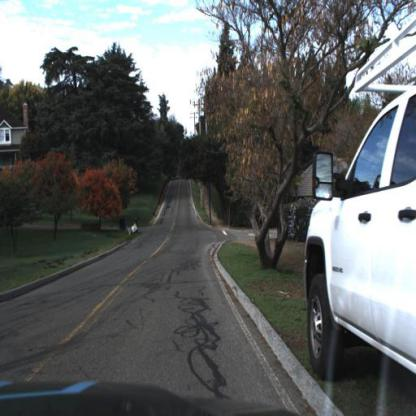truck: (303, 15, 416, 385)
